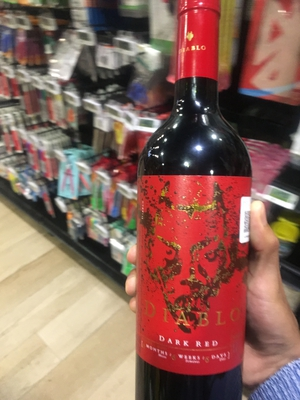diablo dark red: (125, 14, 282, 394)
